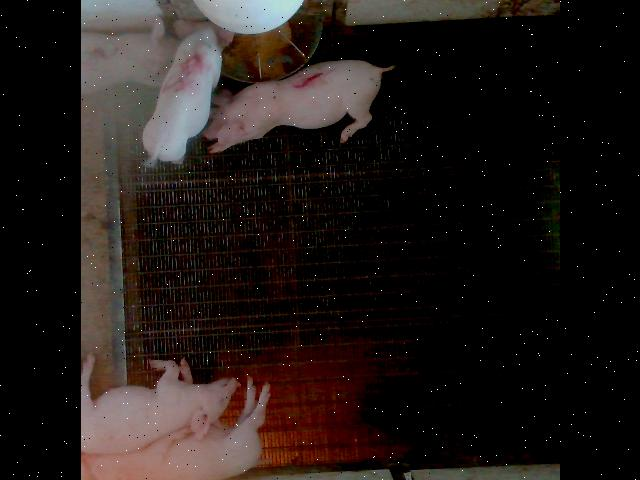pig-1: (203, 60, 392, 152)
pig-3: (82, 19, 179, 94)
pig-5: (142, 22, 232, 165)
